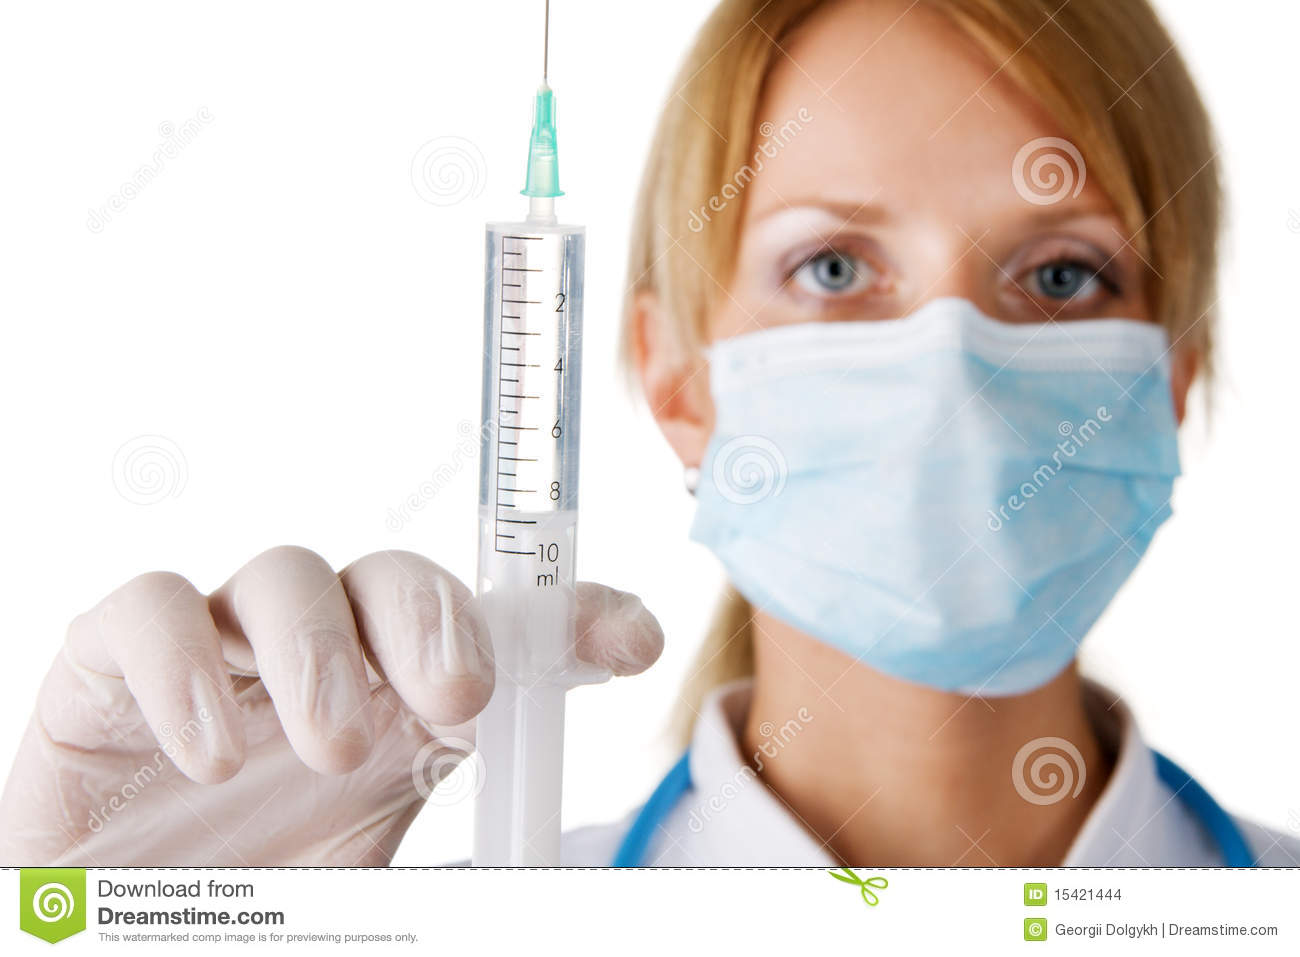mask: (692, 297, 1181, 701)
